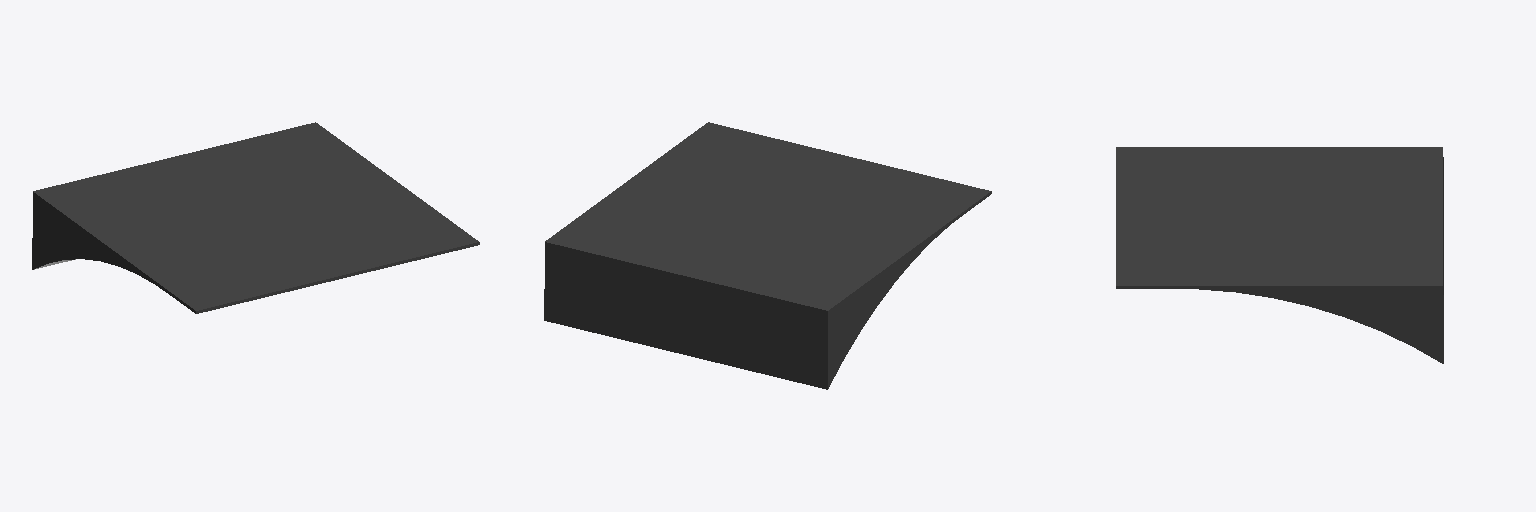
Rendered from mur_orelsan.obj.
The picture shows the model from 3 angles: view 1: azimuth 30°, elevation 25°; view 2: azimuth 150°, elevation 25°; view 3: azimuth 270°, elevation 25°; orthographic projection.
Visible parts, largest first — view 1: Mur; view 2: Mur; view 3: Mur.
Boxes of the visible parts, x1=… form: Mur: x1=32, y1=122, x2=479, y2=313; Mur: x1=544, y1=122, x2=991, y2=389; Mur: x1=1116, y1=147, x2=1443, y2=363.
Size of the model in its own units: 500 by 133 by 500.